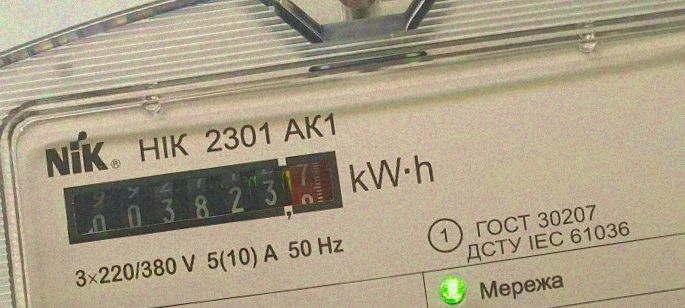0: (120, 199, 144, 228), (87, 208, 108, 233)
2: (223, 181, 247, 215)
3: (155, 192, 178, 224), (258, 175, 280, 207)
7: (293, 160, 313, 190)
8: (189, 189, 210, 220)
9: (86, 187, 106, 208)
screen: (52, 140, 348, 254)
